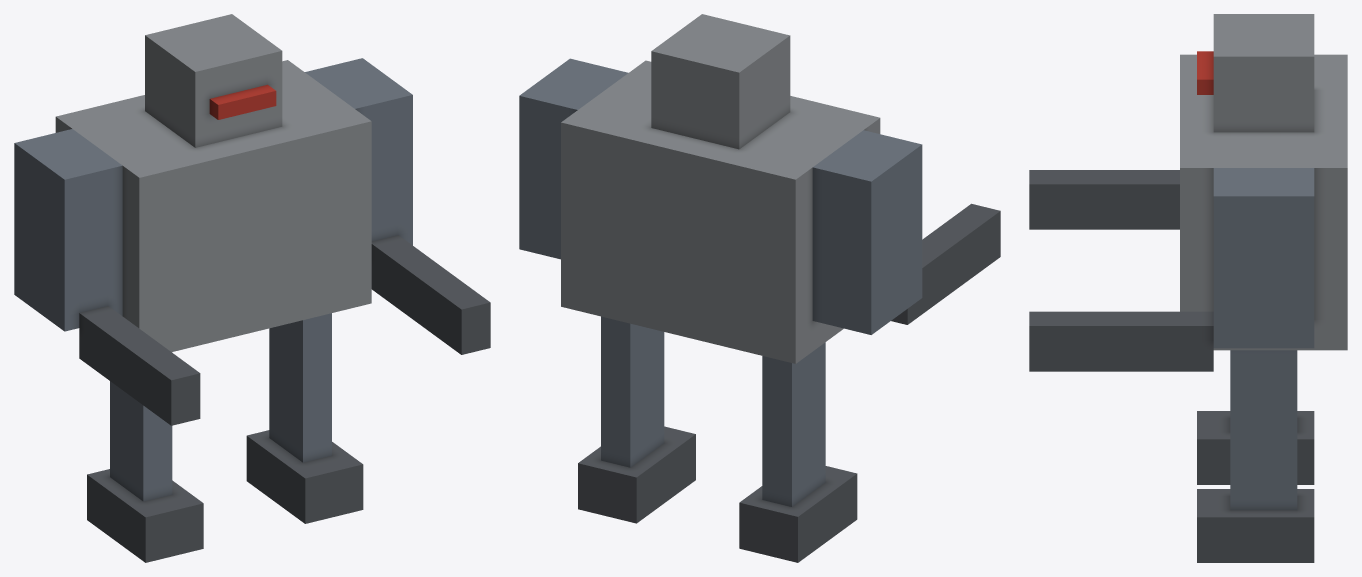
File: u_robot.glb
3 views of the same model, side by side, from view 1: azimuth 30°, elevation 25°; view 2: azimuth 150°, elevation 25°; view 3: azimuth 270°, elevation 25° (orthographic).
Visible parts, largest first — view 1: u_robot_body; view 2: u_robot_body; view 3: u_robot_body.
Boxes of the visible parts, x1,y1,x2,y2 form: u_robot_body: (14, 14, 490, 562); u_robot_body: (519, 14, 1000, 562); u_robot_body: (1029, 14, 1347, 562).
Bounding box in the file's own units: 1.5 × 1.94 × 1.19.
Materials: 1 (1 with a texture image).
